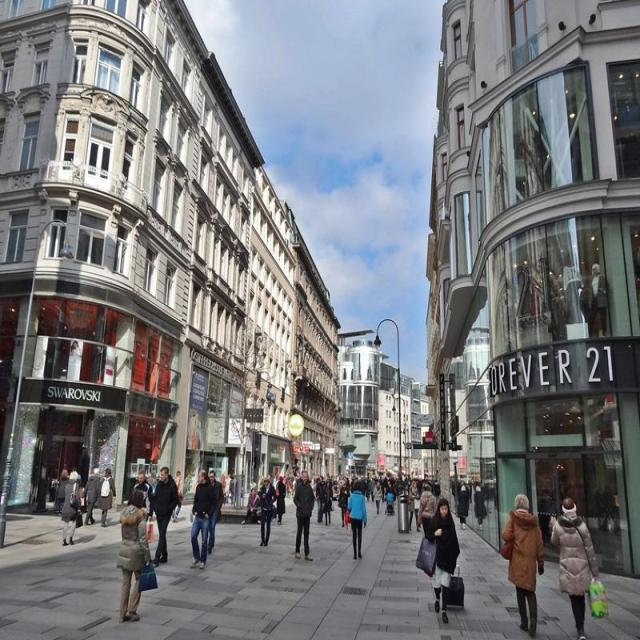body: (546, 492, 612, 639), (498, 491, 546, 639), (412, 495, 462, 624), (117, 487, 153, 624), (310, 472, 434, 504), (148, 464, 180, 569), (188, 467, 218, 571), (578, 260, 613, 342), (292, 467, 316, 562), (60, 470, 85, 548), (343, 480, 367, 560), (206, 469, 225, 556), (256, 476, 278, 548), (469, 478, 497, 531), (417, 481, 439, 546), (96, 466, 117, 529), (131, 468, 155, 522), (81, 466, 102, 527), (264, 467, 302, 498), (536, 485, 556, 542), (598, 484, 620, 534), (67, 334, 85, 386), (240, 485, 262, 526), (170, 470, 185, 525), (188, 404, 205, 451), (146, 468, 160, 523), (54, 467, 70, 515), (408, 479, 421, 533), (456, 483, 470, 531), (185, 460, 202, 499), (337, 482, 351, 529), (314, 474, 326, 524), (322, 480, 333, 527), (276, 476, 286, 526), (449, 478, 465, 508), (74, 480, 85, 522), (227, 472, 240, 506), (371, 480, 383, 516), (218, 470, 228, 509), (223, 470, 232, 504), (148, 442, 162, 463), (432, 478, 442, 503), (364, 475, 373, 502), (369, 476, 376, 502), (270, 502, 280, 520), (345, 477, 351, 498), (144, 470, 152, 481), (74, 471, 81, 482), (82, 505, 90, 512)
